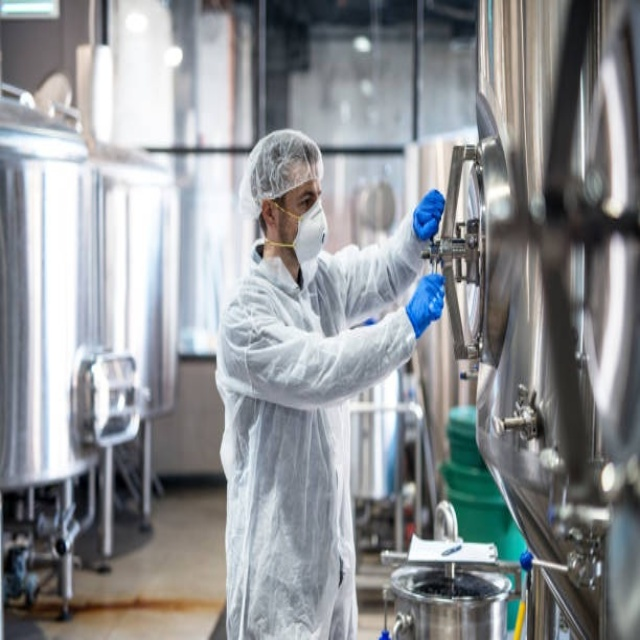Gafas: (269, 193, 319, 223)
Guantes: (405, 272, 445, 339), (412, 189, 445, 243), (519, 550, 534, 572), (361, 318, 377, 327)
Mascara: (285, 195, 327, 269)
